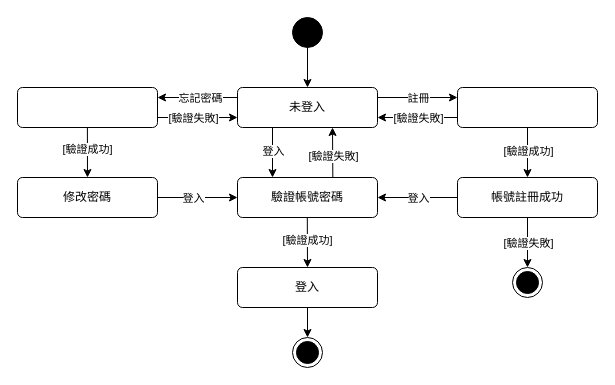
The diagram is 615 pixels wide and 385 high, and some of its shapes have lost their labels. Each missing label, with the centre of its shape:
"驗證信箱" belongs at point (527, 107).
"驗證註冊信箱" belongs at point (87, 107).
